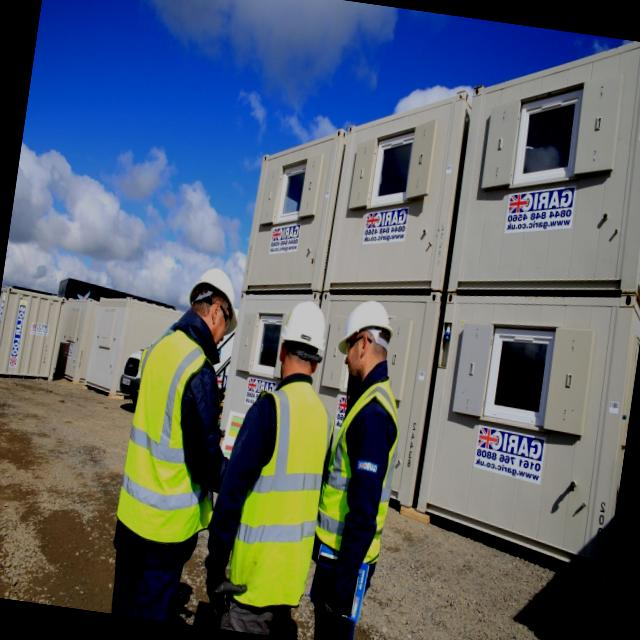helmet: (331, 290, 402, 362), (183, 262, 246, 340), (274, 294, 336, 364)
vest: (220, 380, 338, 613), (117, 344, 205, 536), (313, 380, 406, 560)
